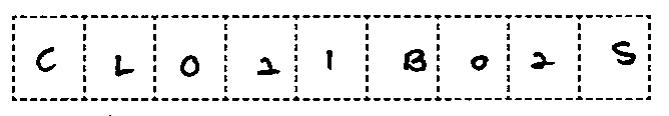0: (172, 47, 209, 82), (462, 49, 496, 79)
1: (602, 28, 643, 74), (312, 41, 347, 79)
2: (524, 44, 561, 78), (248, 53, 286, 86)
B: (399, 44, 432, 82)
C: (30, 43, 63, 77)
L: (109, 49, 139, 82)
